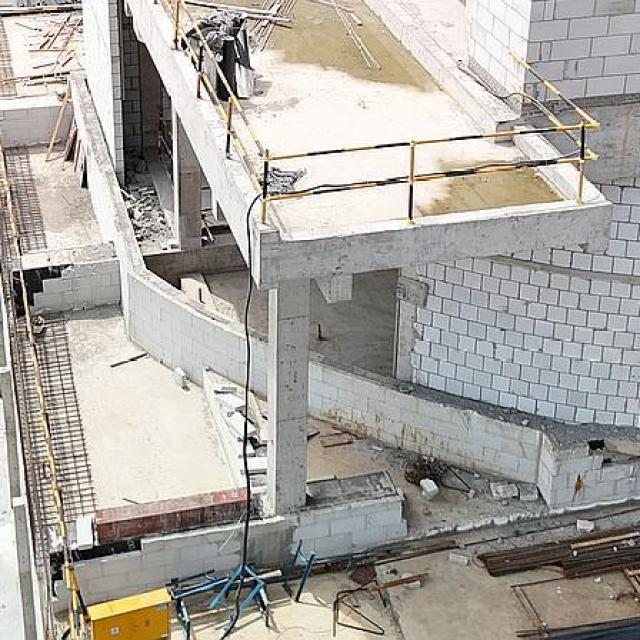edge_guardrail: (155, 0, 602, 226), (0, 138, 90, 640), (160, 118, 173, 158)
